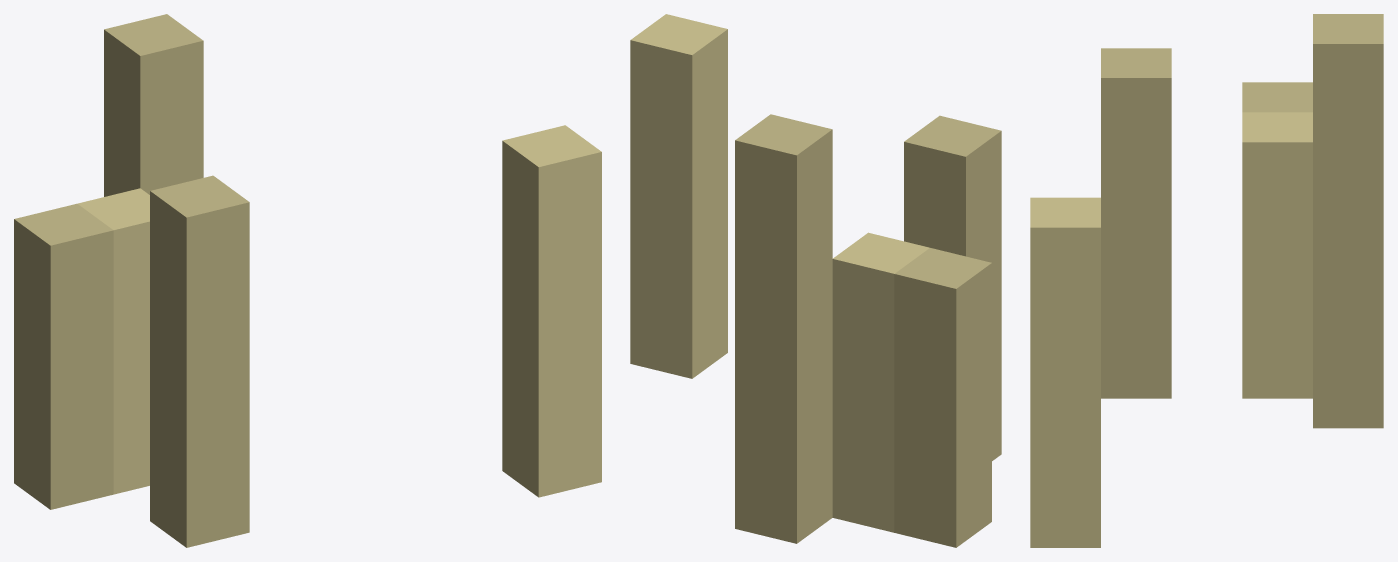
File: esparto_04.glb
3 views of the same model, side by side, from view 1: azimuth 30°, elevation 25°; view 2: azimuth 150°, elevation 25°; view 3: azimuth 270°, elevation 25° (orthographic). The views are drawn at different scales.
Visible parts, largest first — view 1: esparto_04; view 2: esparto_04; view 3: esparto_04.
Boxes of the visible parts, x1,y1,x2,y2 form: esparto_04: (14, 14, 601, 547); esparto_04: (630, 14, 1001, 547); esparto_04: (1030, 14, 1383, 547).
Size of the model in its own units: 0.7 by 0.6 by 0.5.
